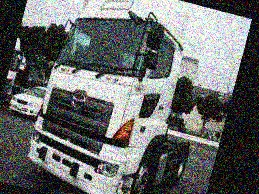car: (7, 79, 47, 122)
